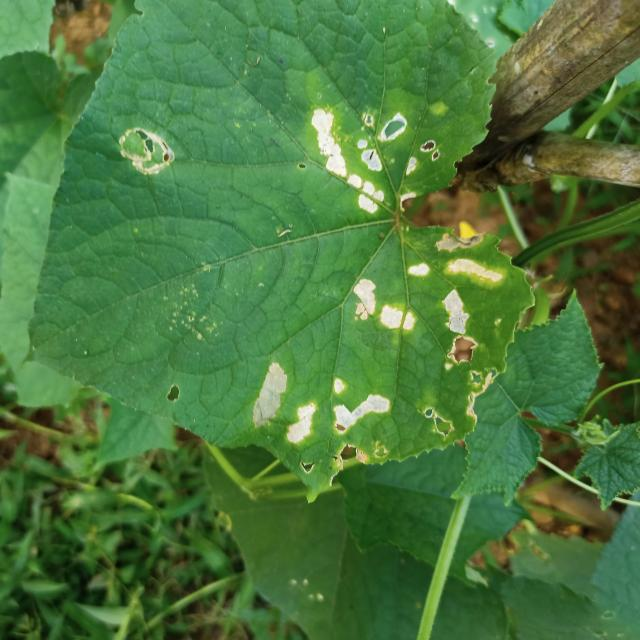disease_cucumber: (309, 102, 447, 219), (435, 228, 505, 419), (352, 261, 432, 341), (328, 373, 396, 464), (250, 360, 318, 448)
